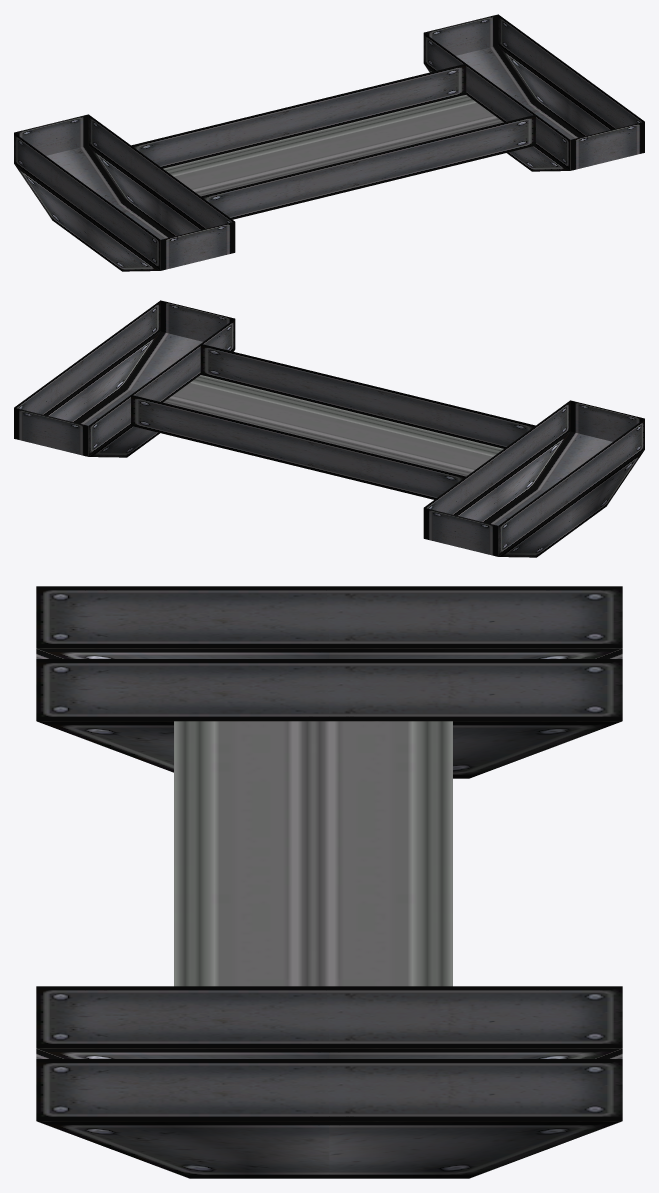
Rendered from Cit_LightStripconnectr.FBX.
3 views of the same model, one above another, from view 1: azimuth 30°, elevation 25°; view 2: azimuth 150°, elevation 25°; view 3: azimuth 270°, elevation 25° (orthographic). The views are drawn at different scales.
Visible parts, largest first — view 1: Cit_LightStripconnectr; view 2: Cit_LightStripconnectr; view 3: Cit_LightStripconnectr.
Boxes of the visible parts, bbox=[...] form: Cit_LightStripconnectr: bbox=[14, 14, 644, 271]; Cit_LightStripconnectr: bbox=[14, 300, 644, 557]; Cit_LightStripconnectr: bbox=[36, 586, 622, 1178].
Size of the model in its own units: 0.5739 by 0.0678 by 0.3008.
